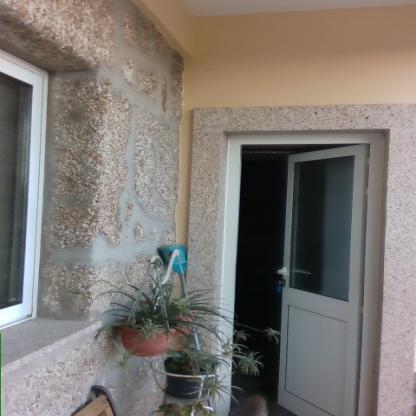semi: (200, 122, 396, 416)
